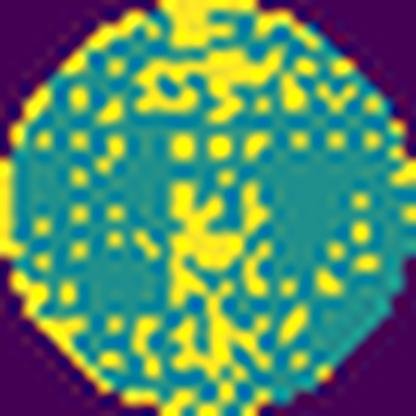Random: (0, 0, 358, 416)
